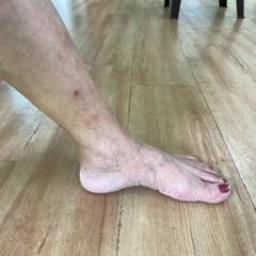Medial View -Left Foot-: (47, 109, 242, 213)
